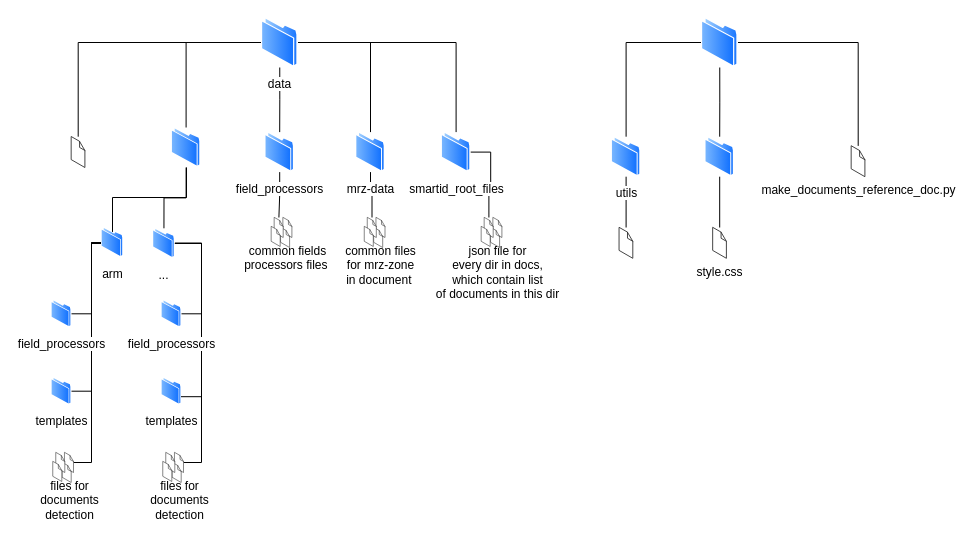
Some shapes in this 973 by 539 pixel diagram are drawn without their labels. The shapes that lost their labels are listed below. From the top down, each one's centre as x and y in pixels, then its label:
At point 719,42: "scripts".
At point 77,152: "bundle_cis_server.json".
At point 185,147: "docs".
At point 719,156: "css".
At point 625,242: "common_utils.py".
